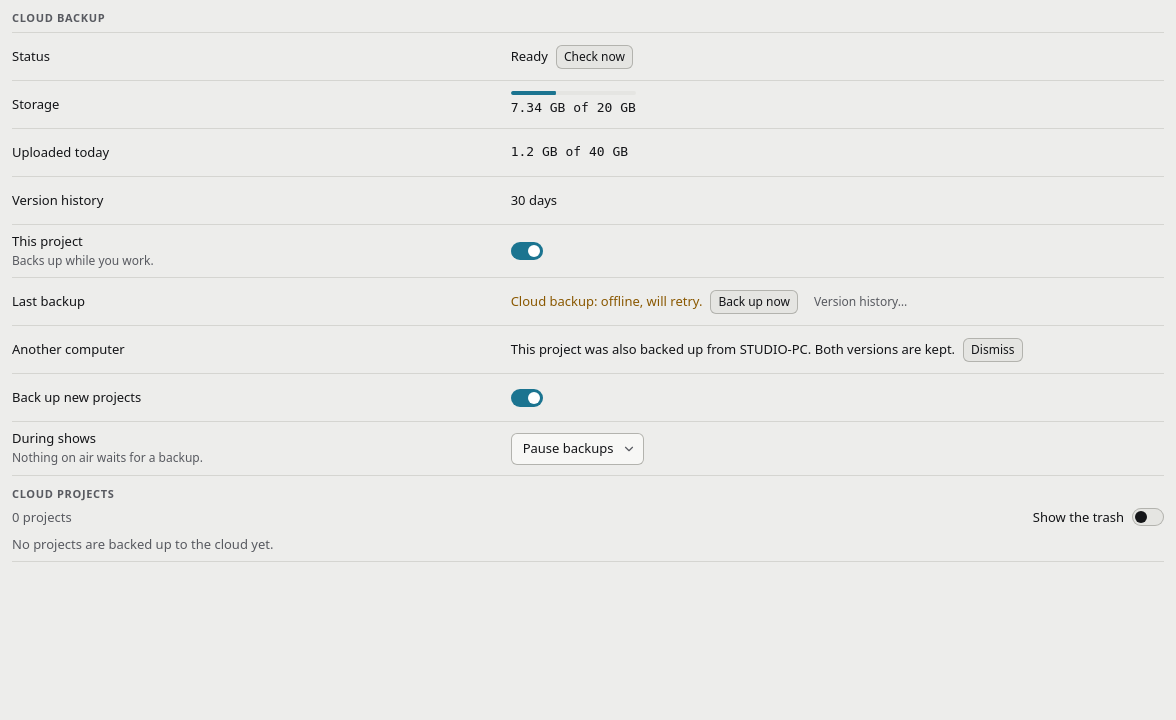
it: Cloud backup pane: backing up › says why a backup stopped and names another computer's backup
The image size is (1176, 720).
Expected: the text "Cloud backup: offline, will retry." is shown, x1=511 y1=292 x2=702 y2=311
Expected: the text "This project was also backed up from STUDIO-PC. Both versions are kept." is shown, x1=511 y1=340 x2=955 y2=359
Click the button "Dismiss": (993, 350) x1=963 y1=338 x2=1022 y2=362
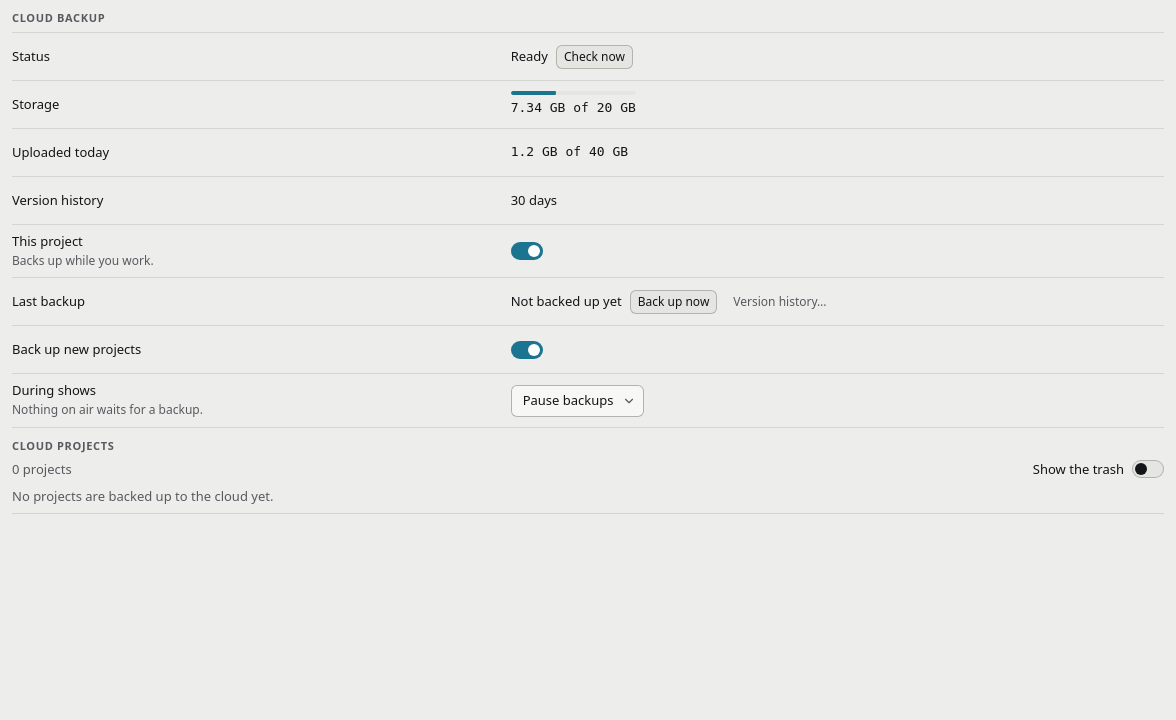
Result: the text "Both versions are kept" is gone
